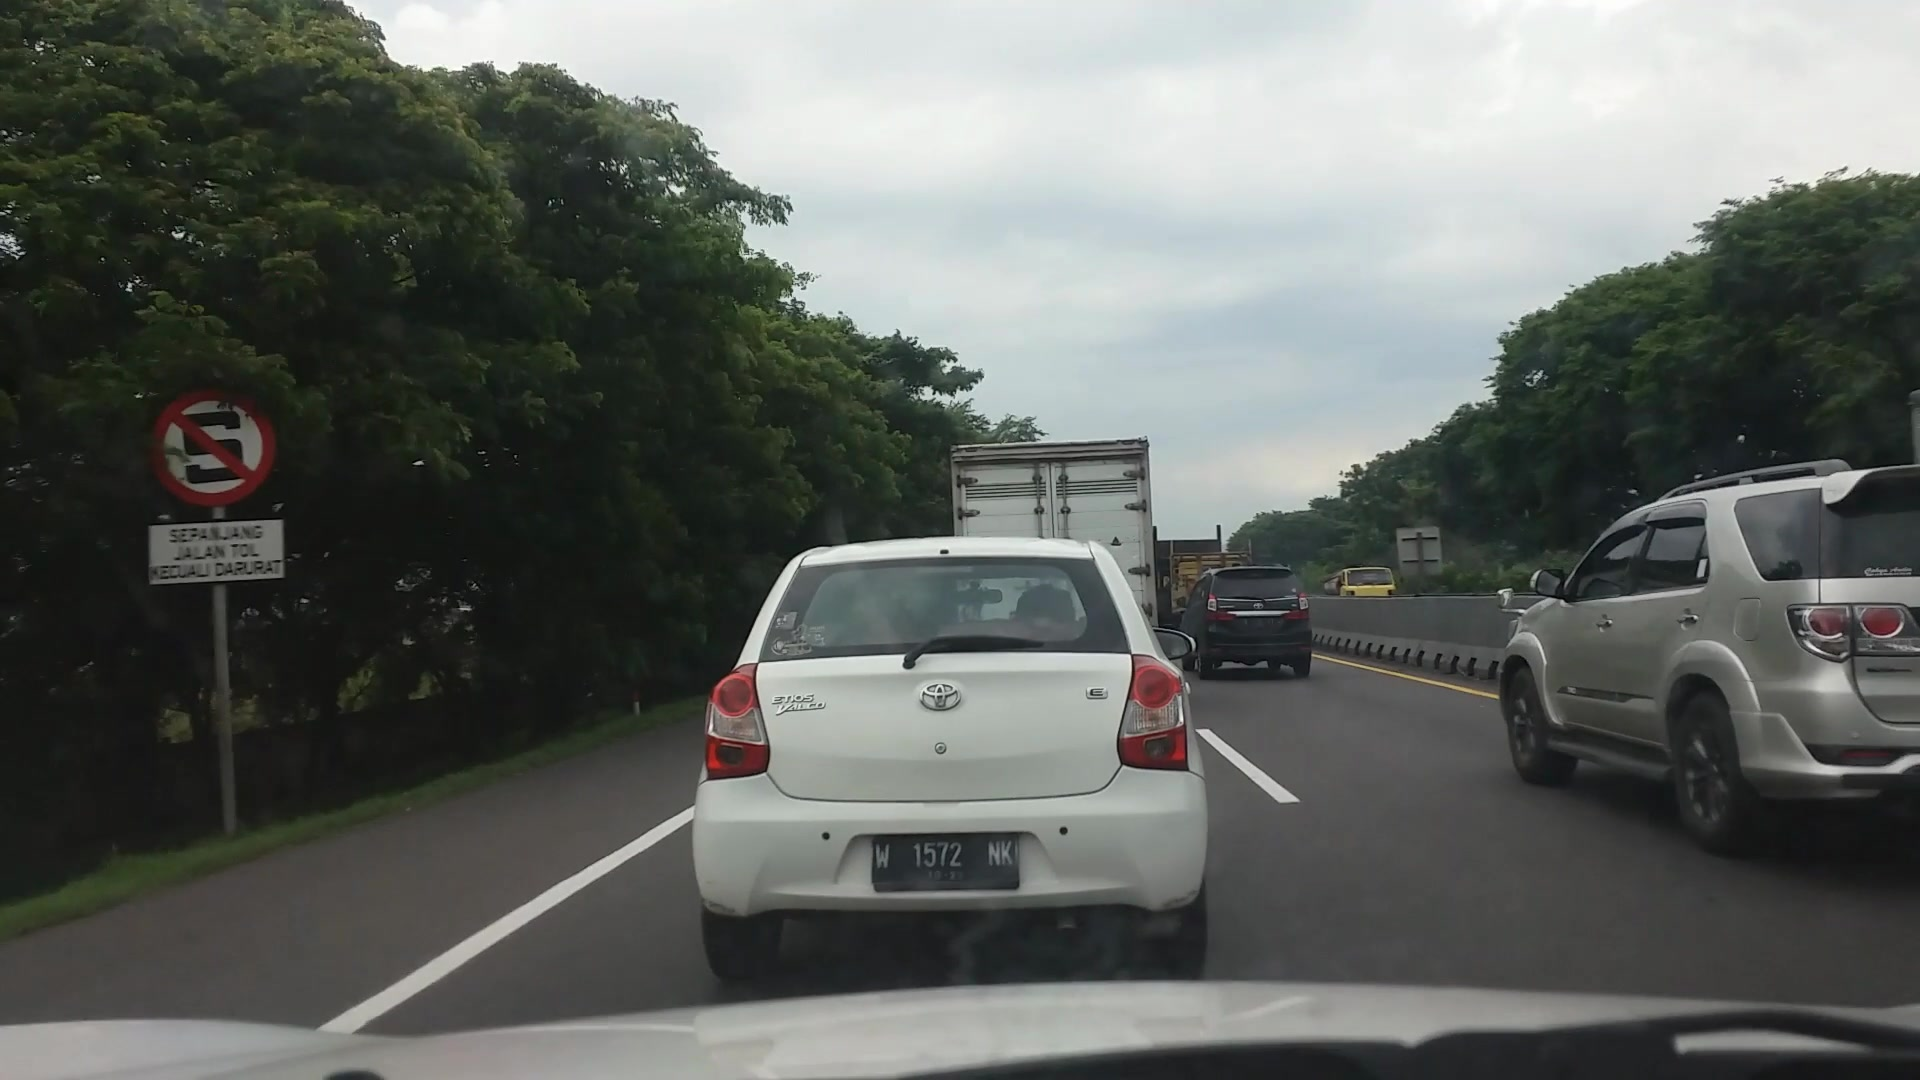plate_positive: (872, 833, 1021, 891)
